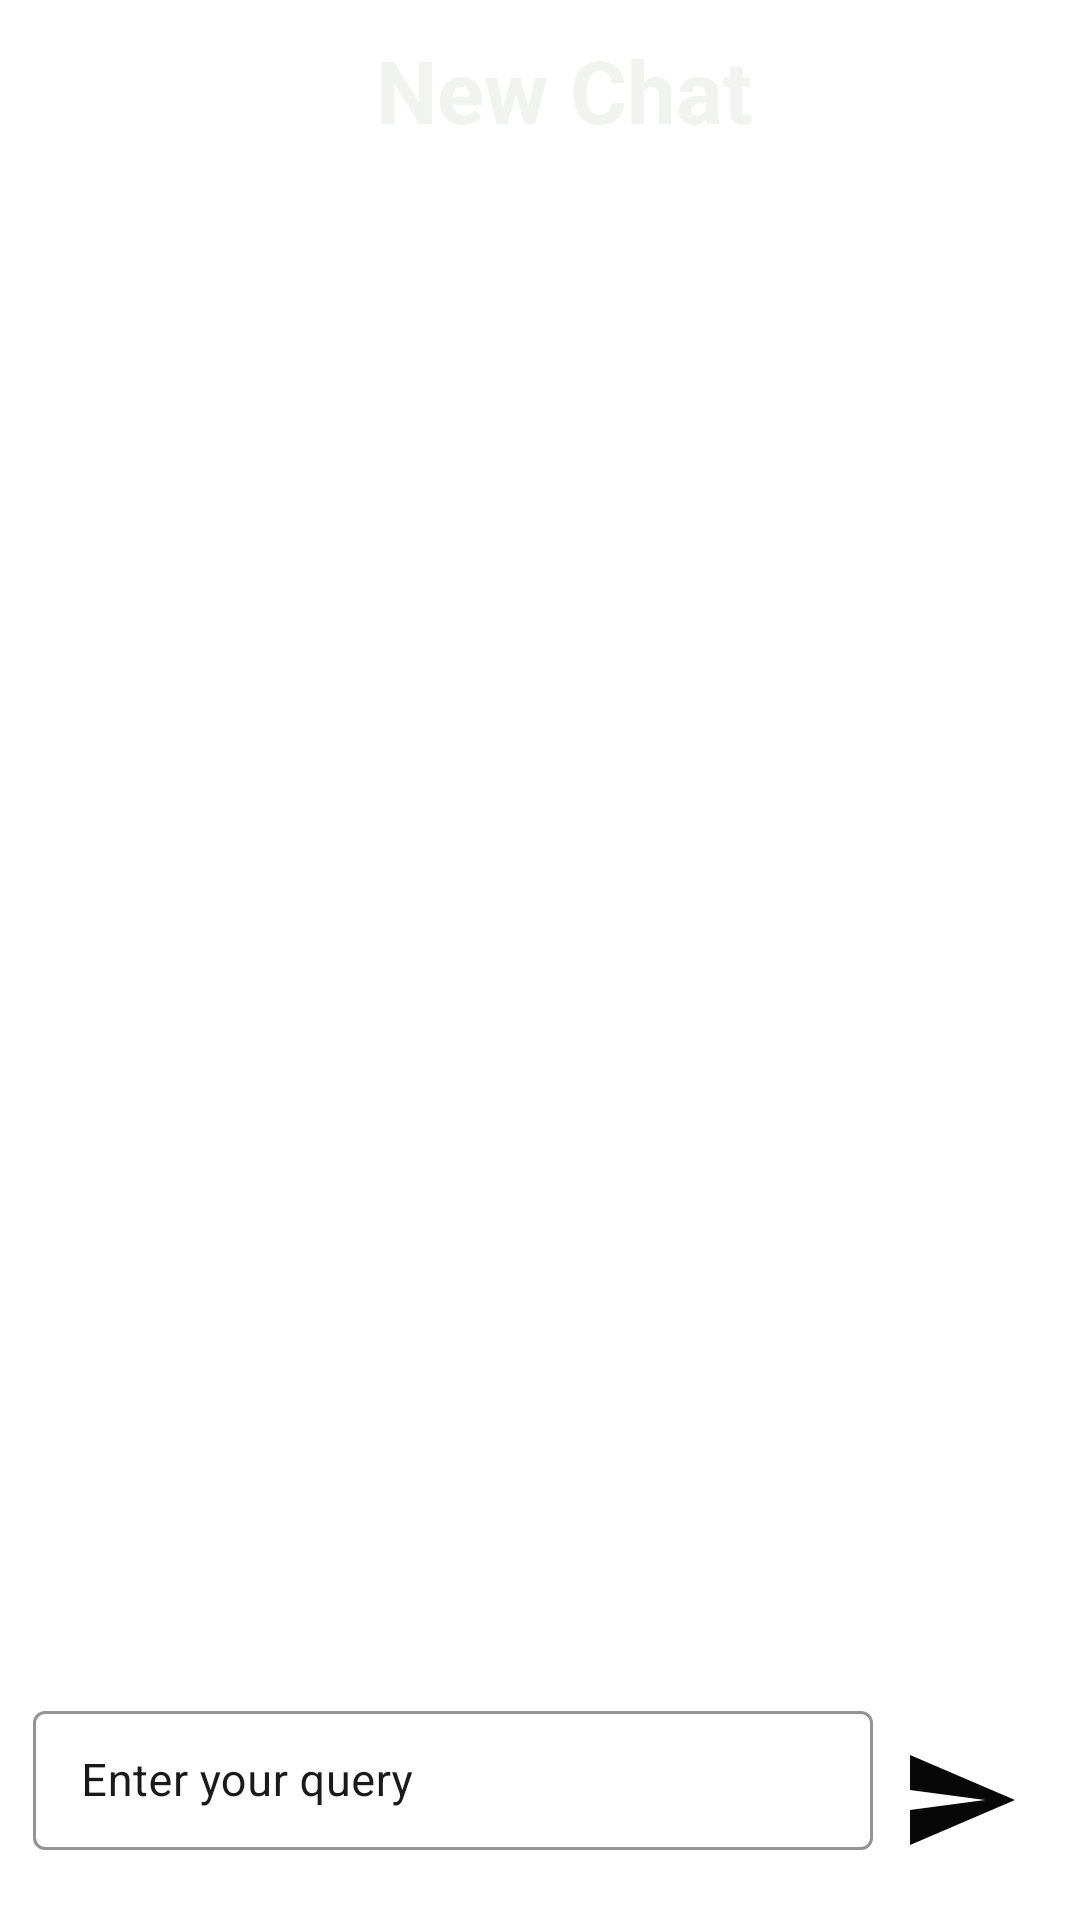

Screen size 1080x1920. Icon name, then its box in pixels as [x1, y1, x2, y2]:
send: [910, 1755, 1015, 1845]
